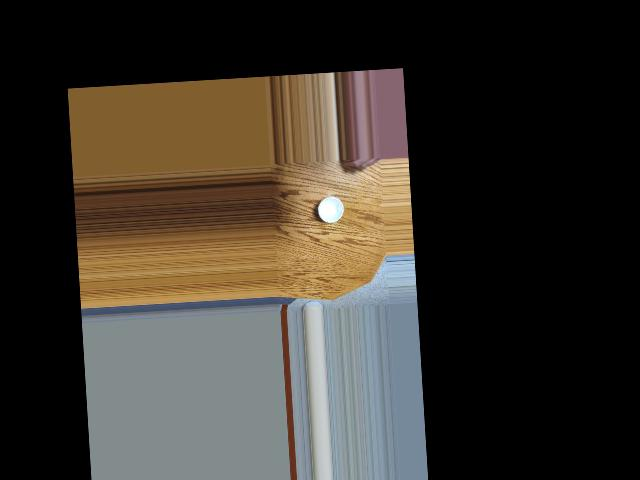cotage: (317, 190, 349, 225)
